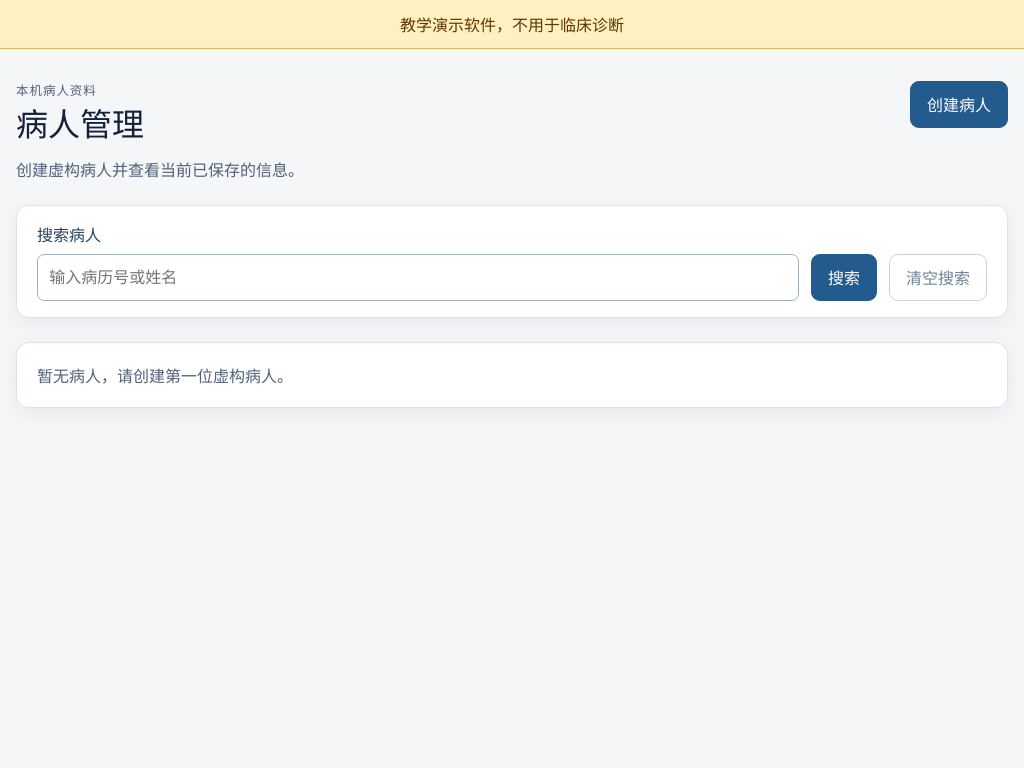
PatientManagementPage create and detail flow › keeps the create dialog and every draft field after save failure
Click the button "创建病人".
click(959, 104)  # box [910,81,1008,128]
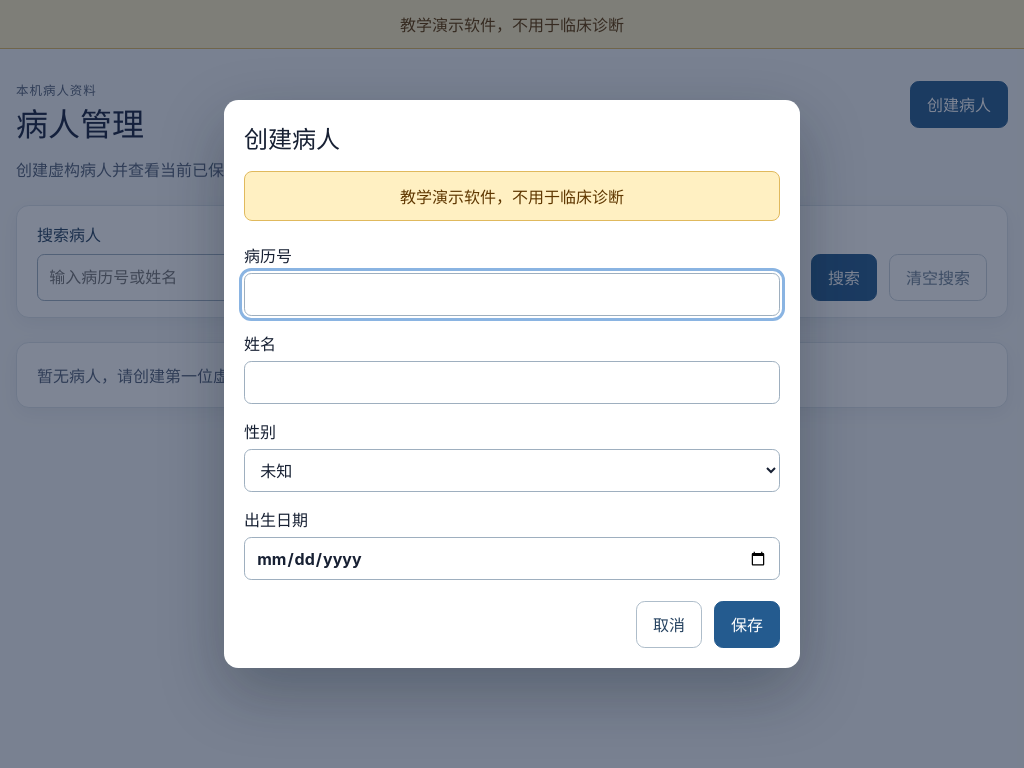
Type " MR 09/A " into the field labelled "病历号".
click(512, 295); type(" MR 09/A ")  # box [244,273,780,316]
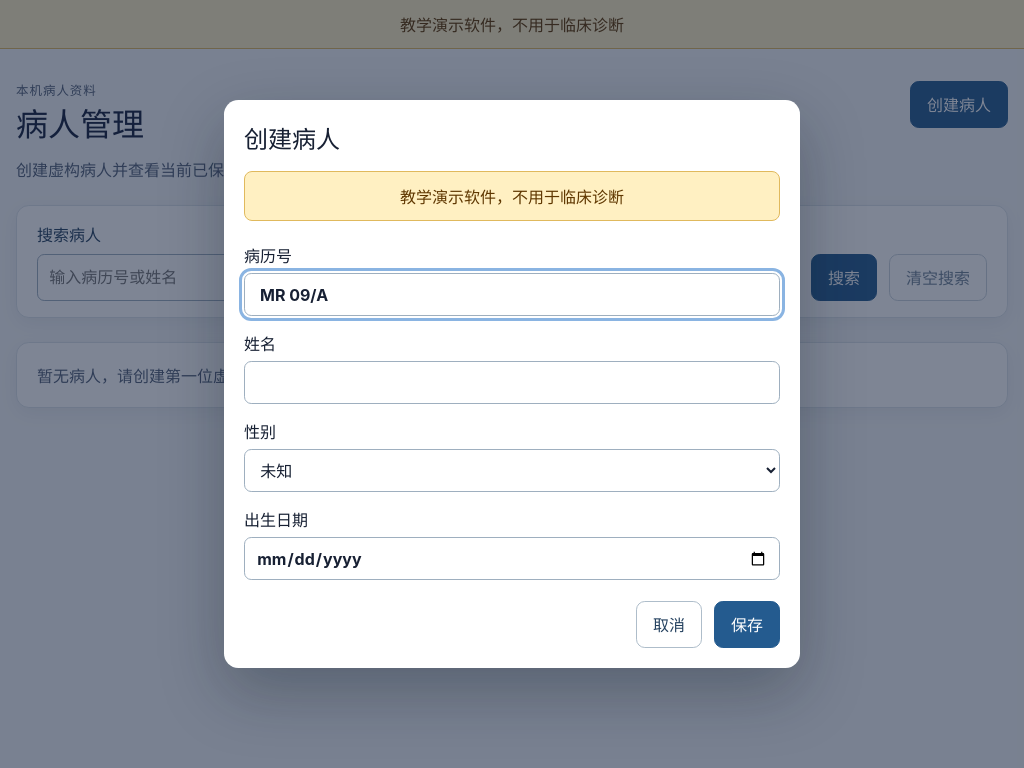
Type "草稿 病人" into the field labelled "姓名".
click(512, 383); type("草稿 病人")  # box [244,361,780,404]
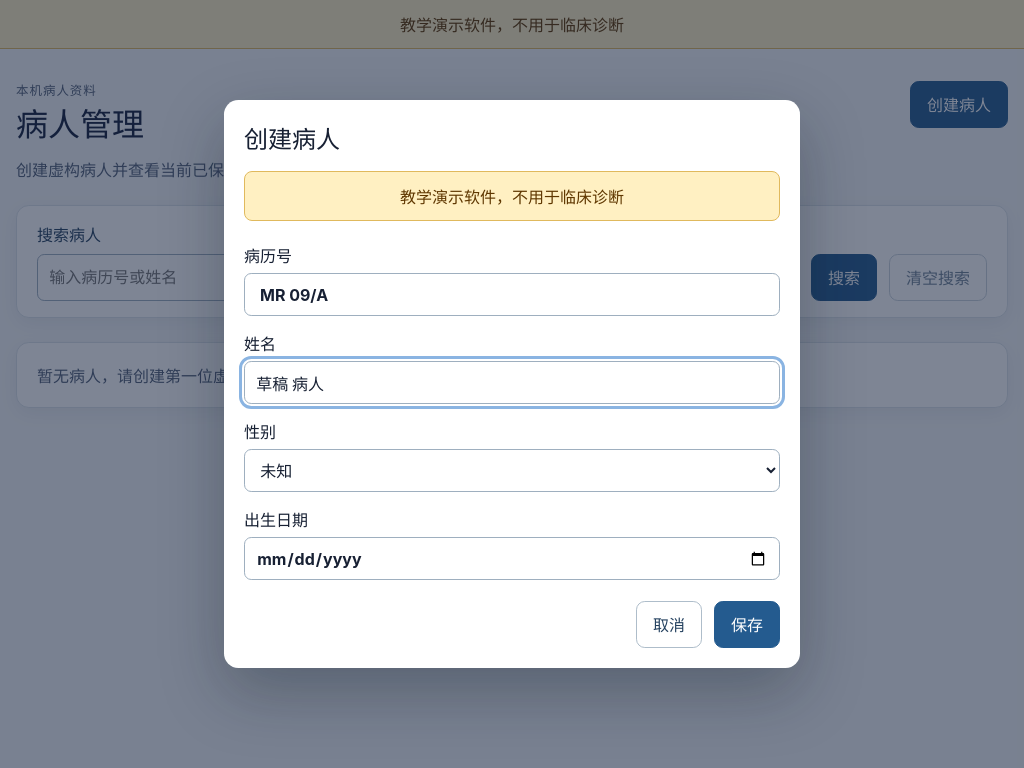
Select "女" in the dropdown labelled "性别" at (512, 471), box [244,449,780,492]
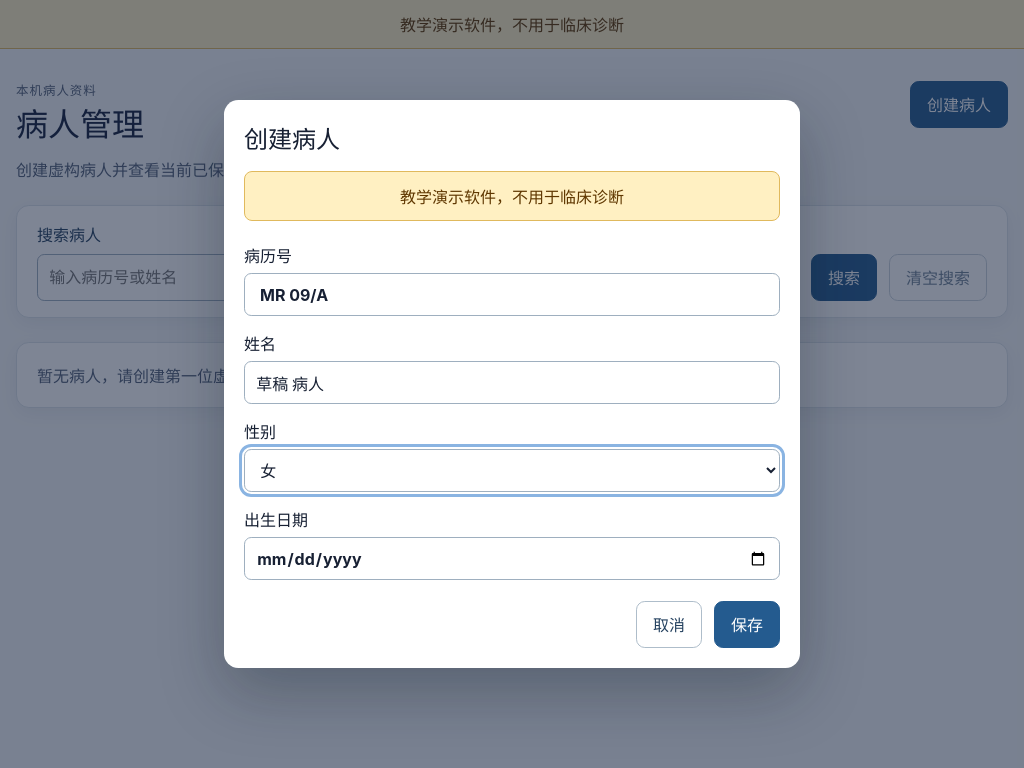
Type "2000-01-02" into the date field labelled "出生日期".
click(512, 559); type("2000-01-02")  # box [244,537,780,580]
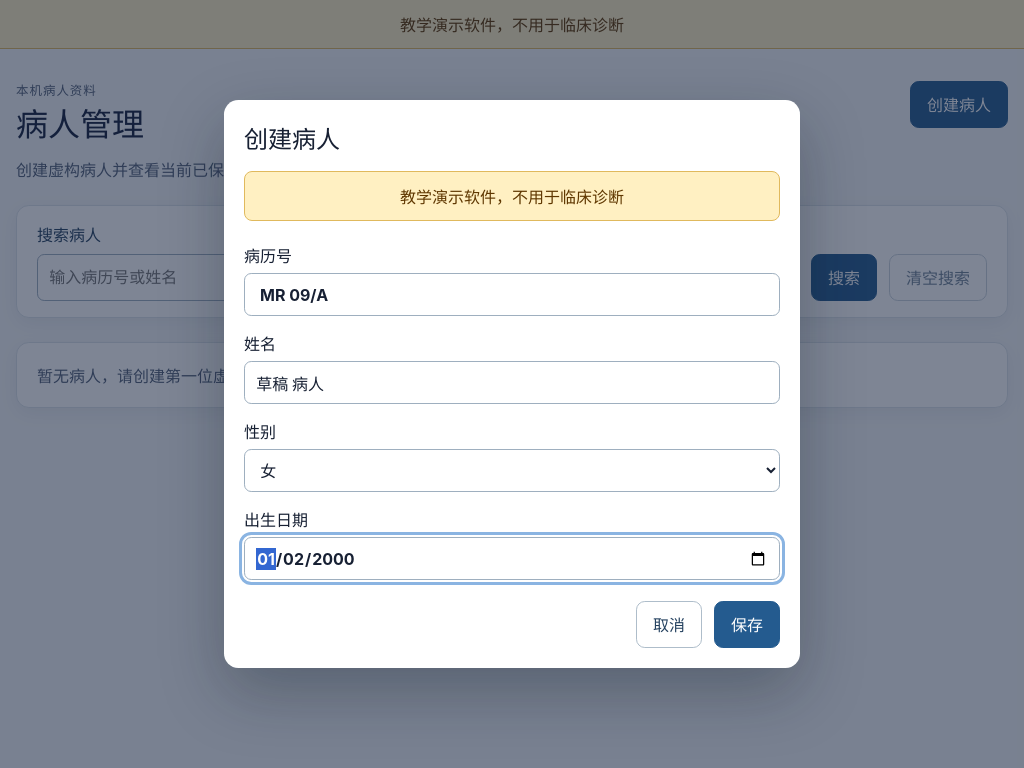
Click the button "保存".
click(747, 624)  # box [714,601,780,648]
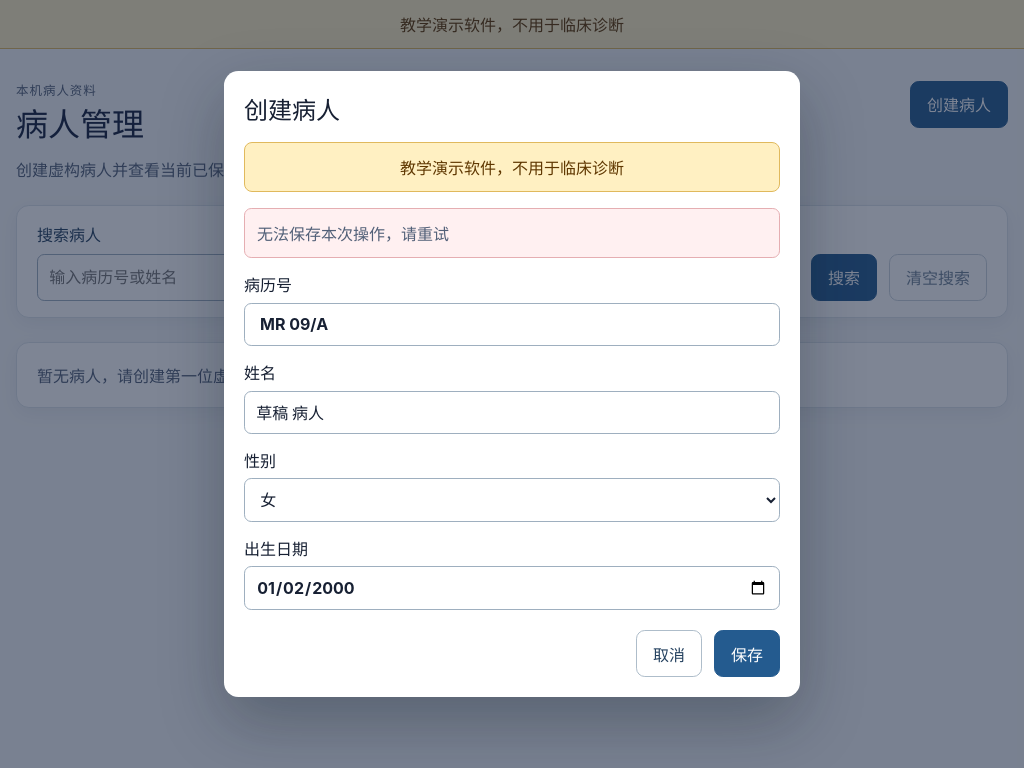
Result: the dialog "创建病人" is shown at [224,71,800,697]
Result: the text "教学演示软件，不用于临床诊断" next to "创建虚构病人并查看当前已保存的信息。" is shown at [400,158,624,178]
Result: the message "无法保存本次操作，请重试" is shown at [244,208,780,258]
